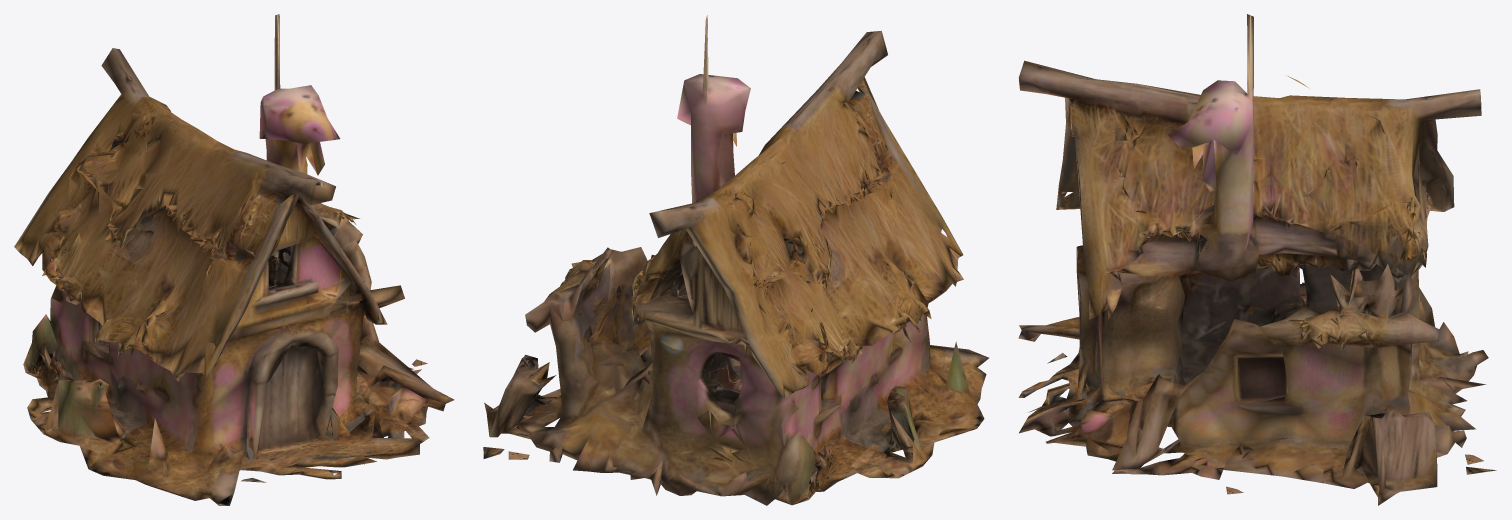
Rendered from BrokenHouse_straw.glb.
3 views of the same model, side by side, from view 1: azimuth 30°, elevation 25°; view 2: azimuth 150°, elevation 25°; view 3: azimuth 270°, elevation 25° (orthographic). The views are drawn at different scales.
Bounding box in the file's own units: 1.95 × 1.87 × 1.97.
Materials: 1 (1 with a texture image).
